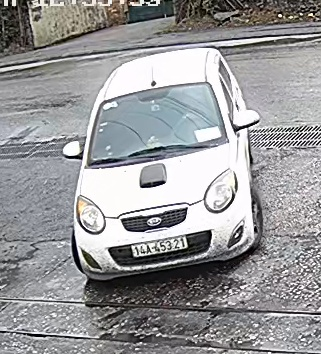vehicle plate: (128, 238, 188, 259)
